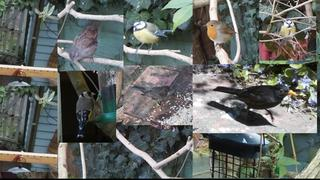blackbird: (213, 84, 297, 126), (131, 86, 173, 108)
blue tit: (131, 20, 173, 54), (279, 19, 296, 46)
dunnock: (68, 20, 104, 65)
goldfinch: (76, 91, 96, 138)
robin: (203, 20, 239, 52)
